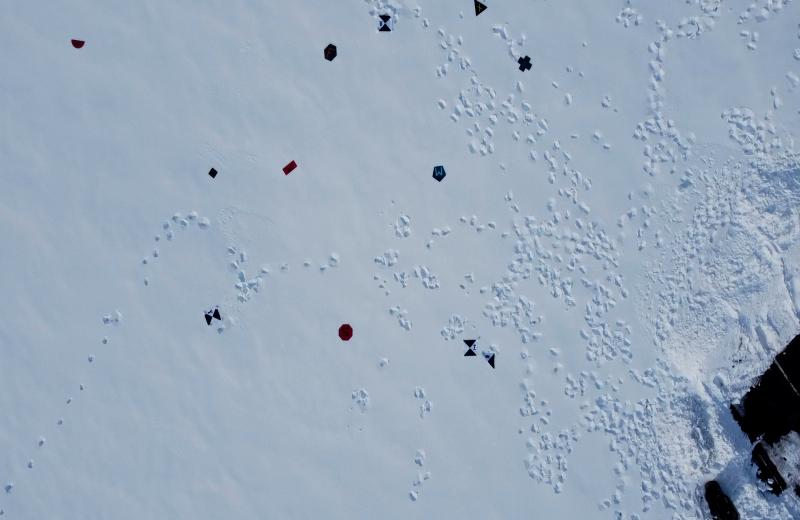Cross: (517, 58, 533, 75)
Octagon: (338, 327, 354, 345)
Pentagon: (431, 168, 447, 186)
Rectangle: (323, 46, 339, 64), (282, 159, 298, 177)
Semi Circle: (70, 38, 86, 50)
Square: (208, 166, 218, 178)
Triangle: (473, 1, 489, 20)
